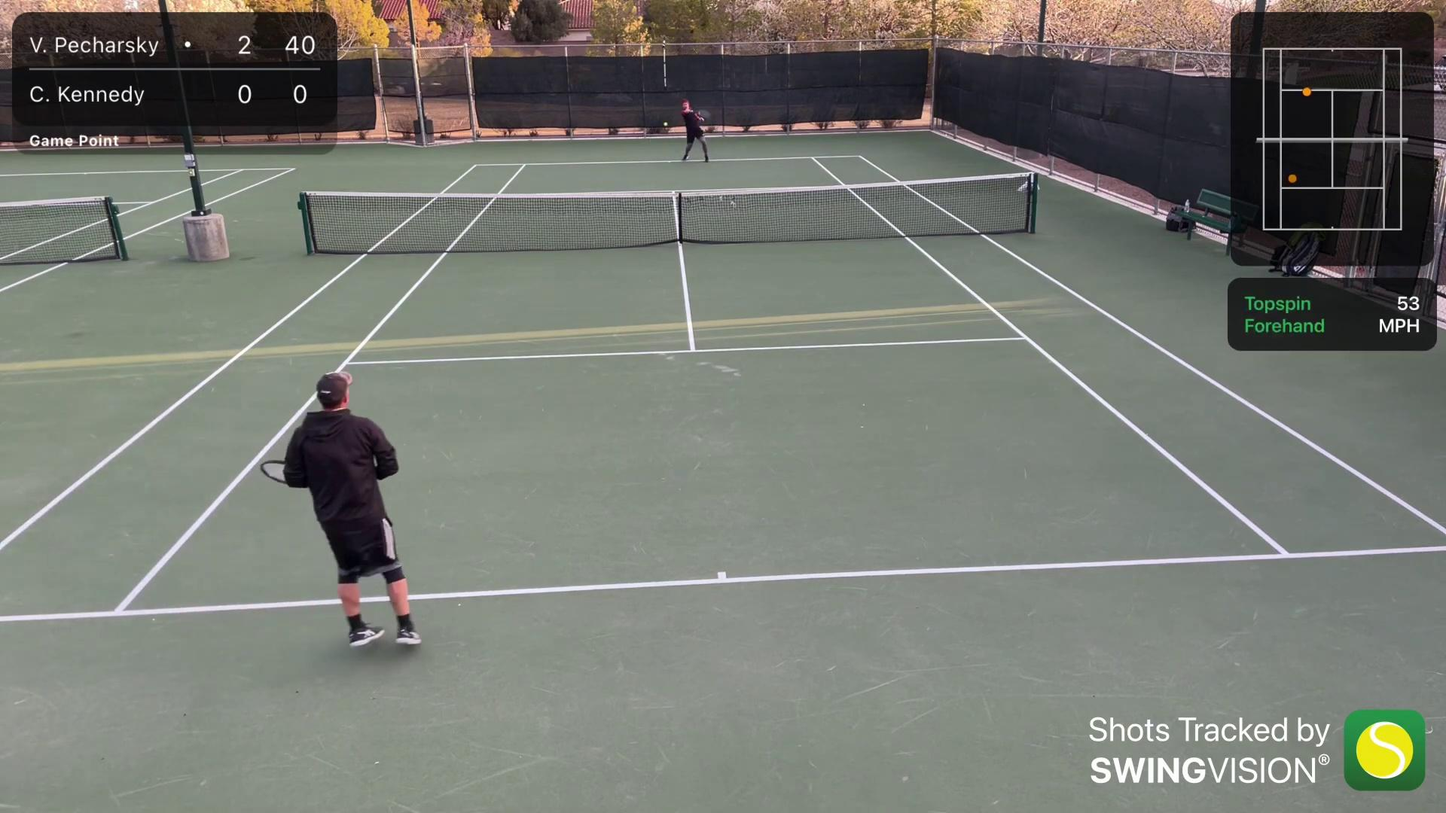ball: (662, 122, 668, 128)
